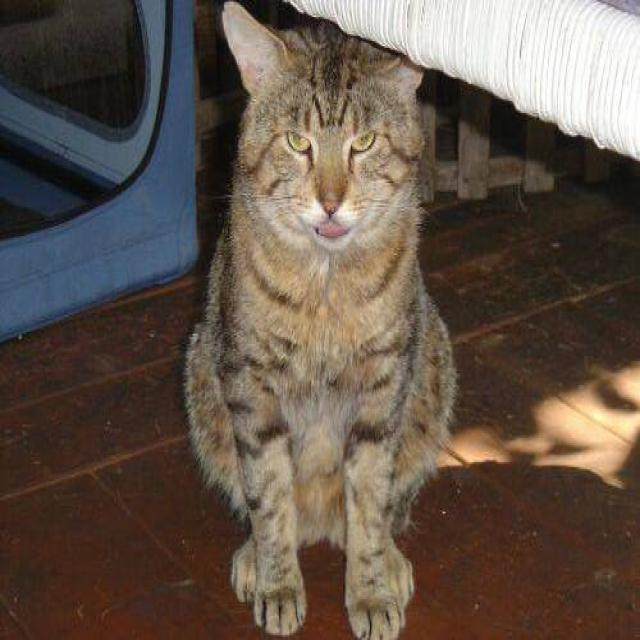cat: (181, 0, 458, 638)
